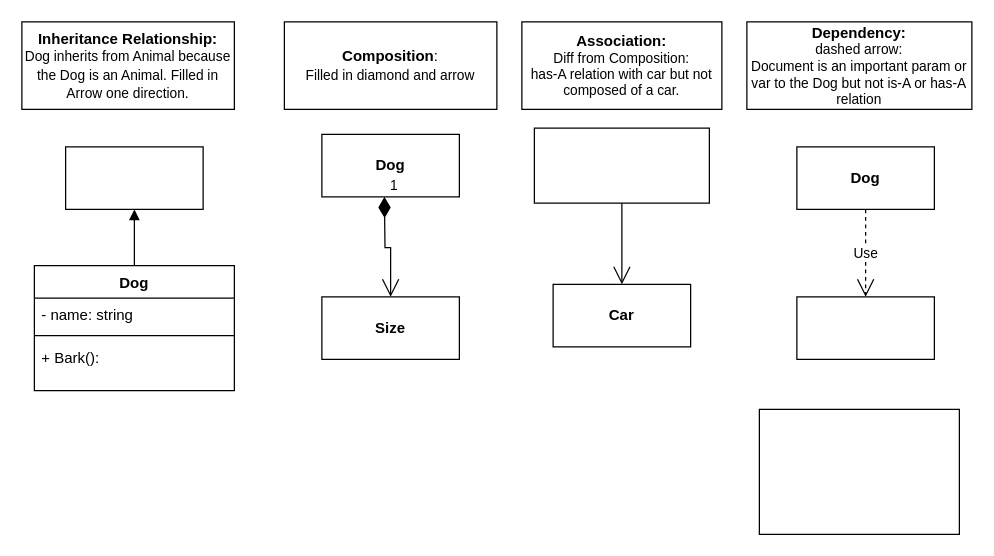
This 994x556 diagram has some shape labels left out. The shapes that lost their labels are listed below. From the top down, each one's centre as x and y in pixels, then its label:
At pixel 133 177: "Animal".
At pixel 621 165: "Person - car".
At pixel 865 327: "Document".
At pixel 858 471: "Example: Class Dog { public void render(Document doc) { } }".
